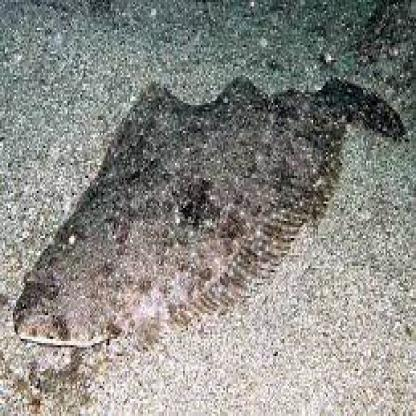flounder: (12, 76, 400, 350)
